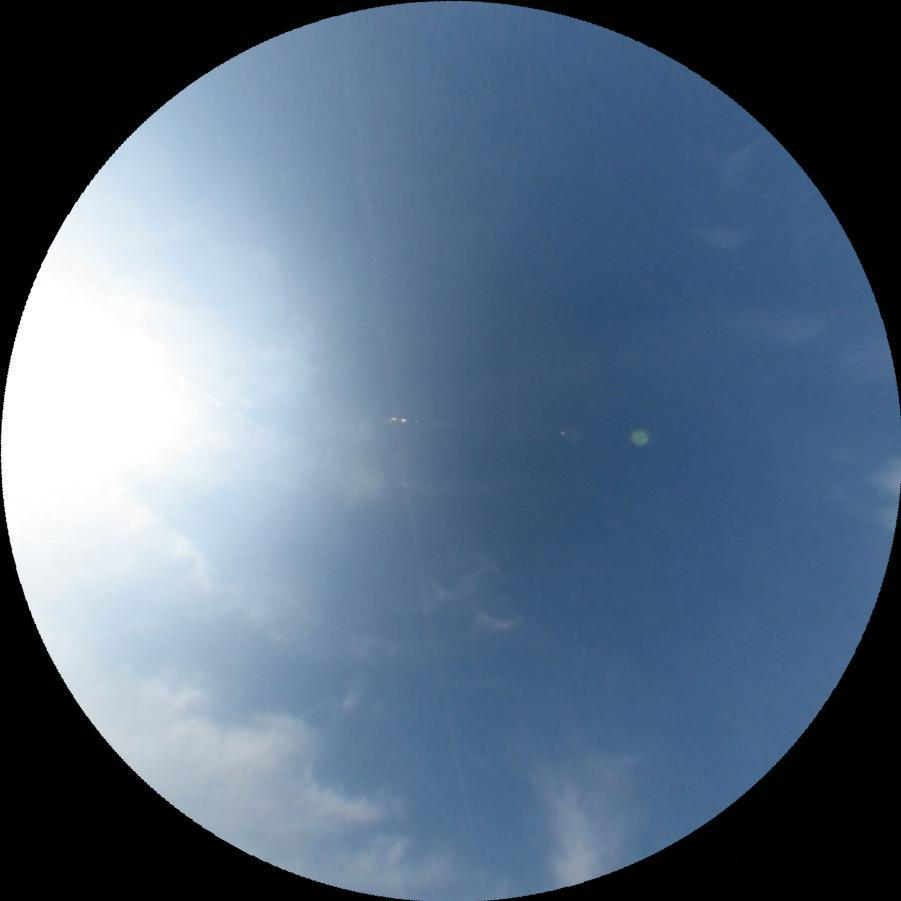contrail old: (336, 112, 476, 836)
contrail young: (14, 535, 107, 546)
sun: (0, 218, 193, 538)
